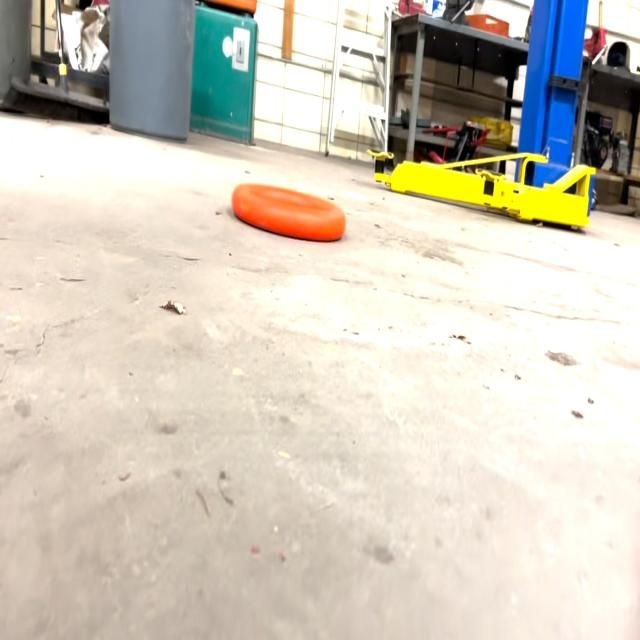note: (232, 174, 348, 248)
